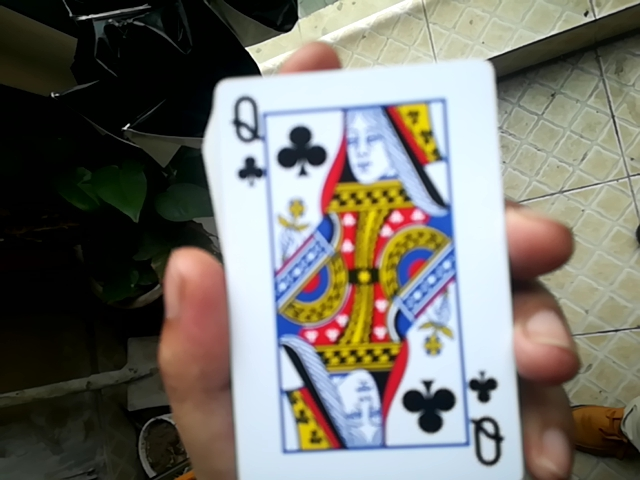mh q: (195, 45, 529, 475)
